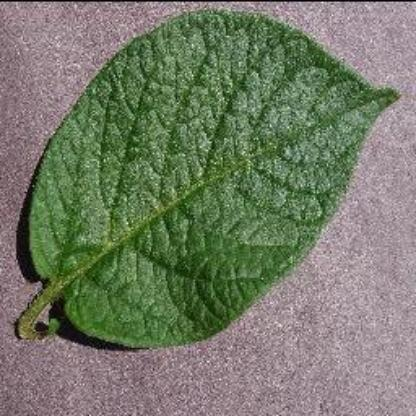Healthy-plant: (15, 5, 405, 353)
